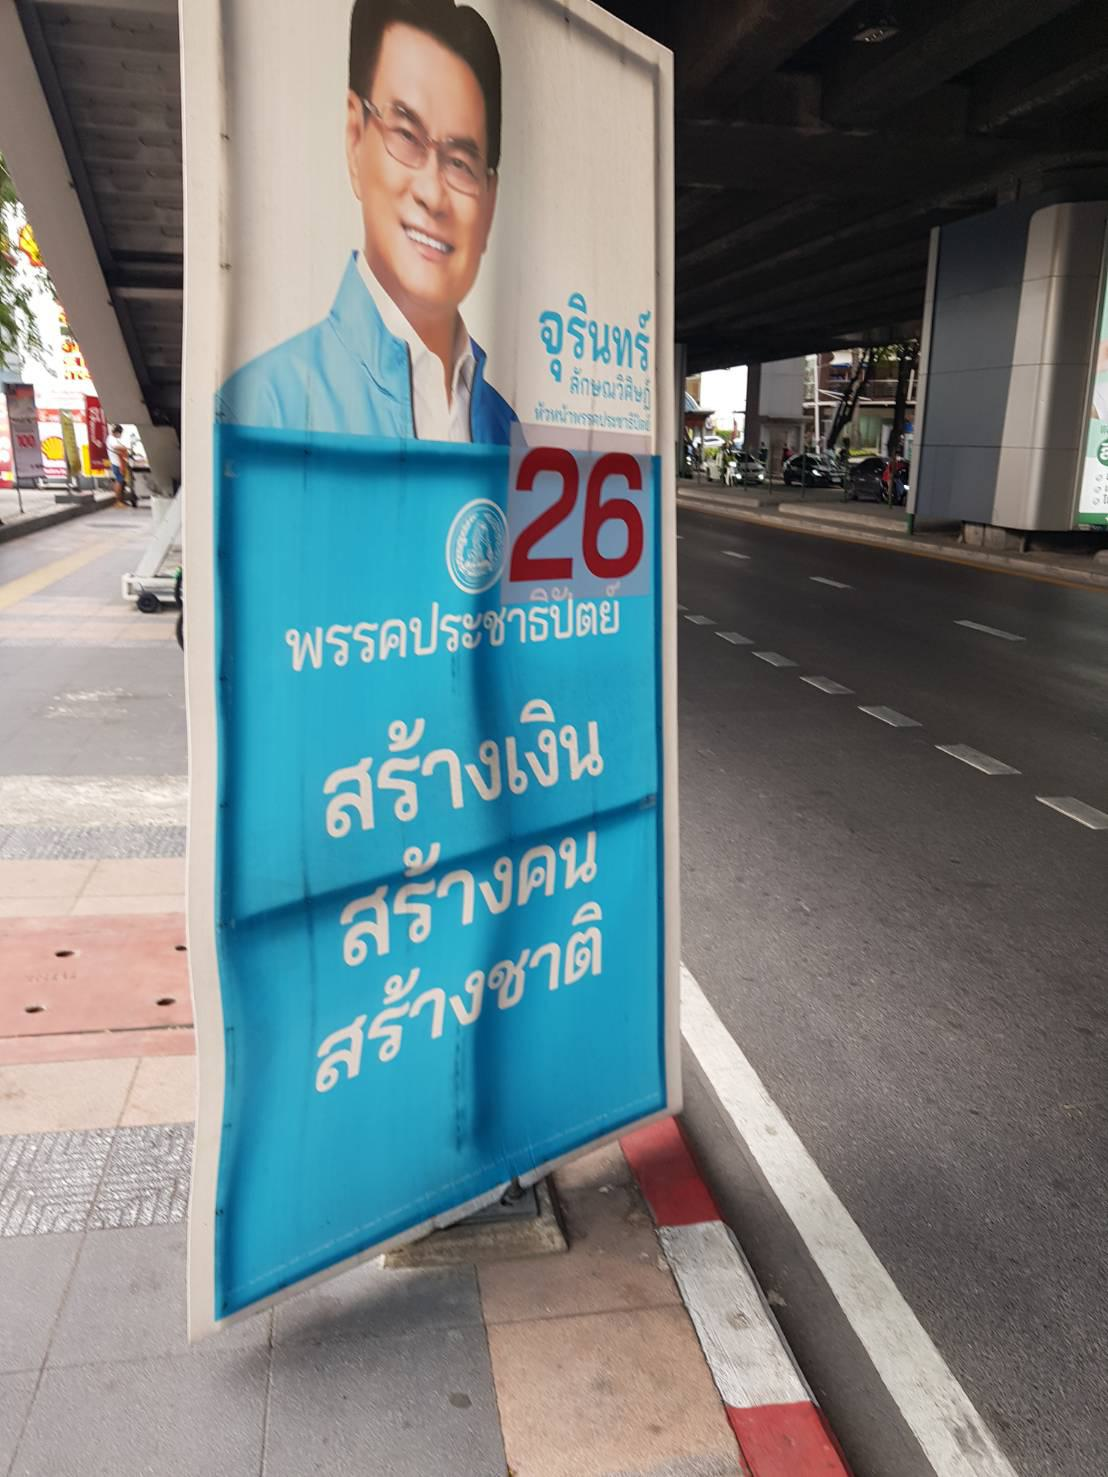Banner: (182, 0, 679, 1325)
